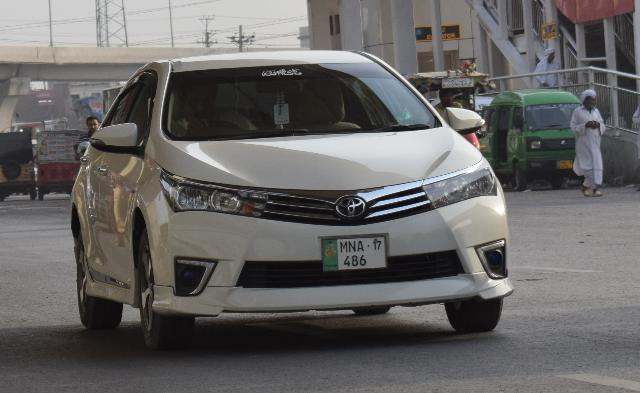plate: (322, 233, 388, 273)
